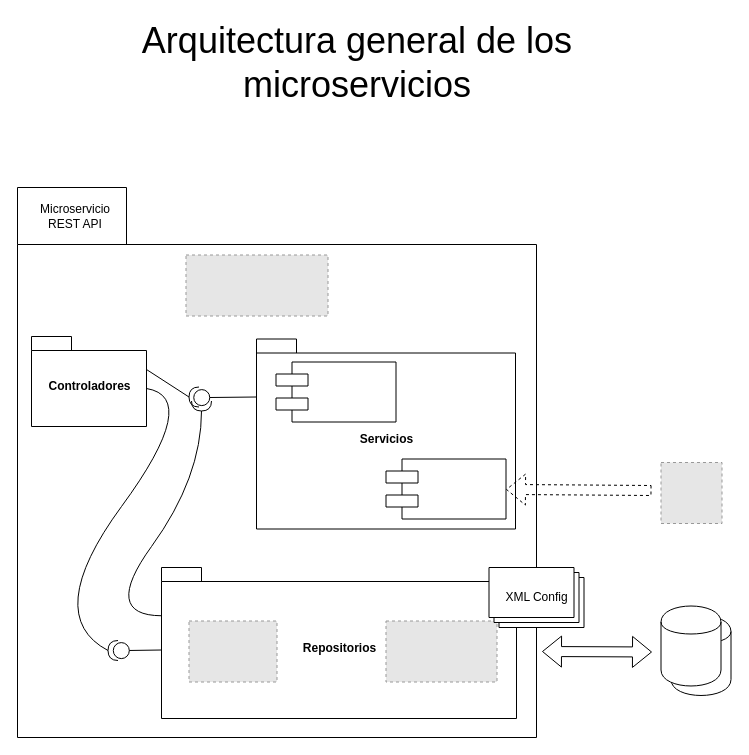
Image size: 749x755. Some labels were removed from this diagram. Grey dashed boxes stand in for pictures. Each missing label, with the box of its shape:
com.3rdparty: (385, 458, 506, 519)
es.mde.et: (275, 361, 396, 422)
